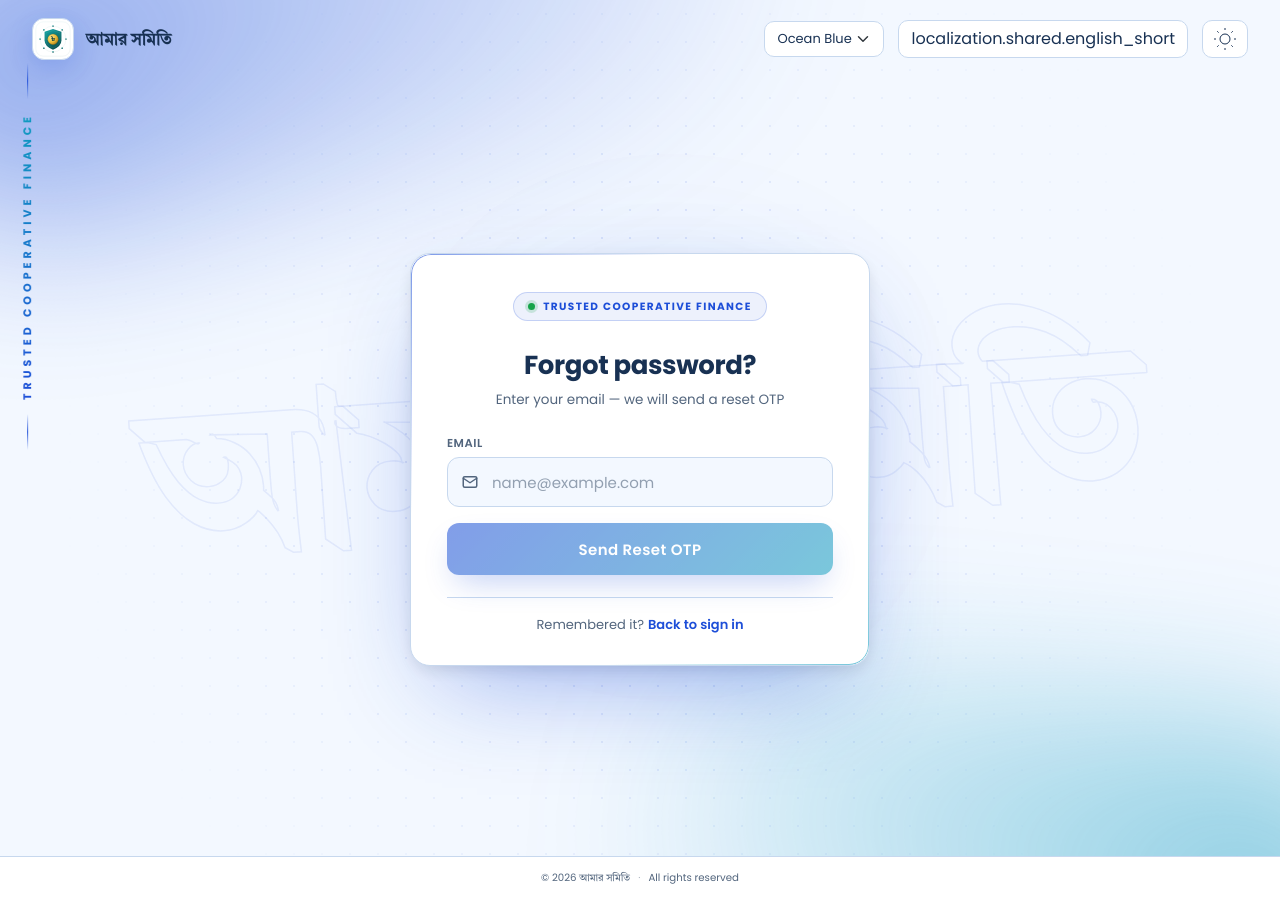
starts recovery without putting an AbortSignal in the authorization header
Type "support@example.test" into the field labelled "Email" at (640, 482), box top-left (447, 457), bottom-right (833, 507)
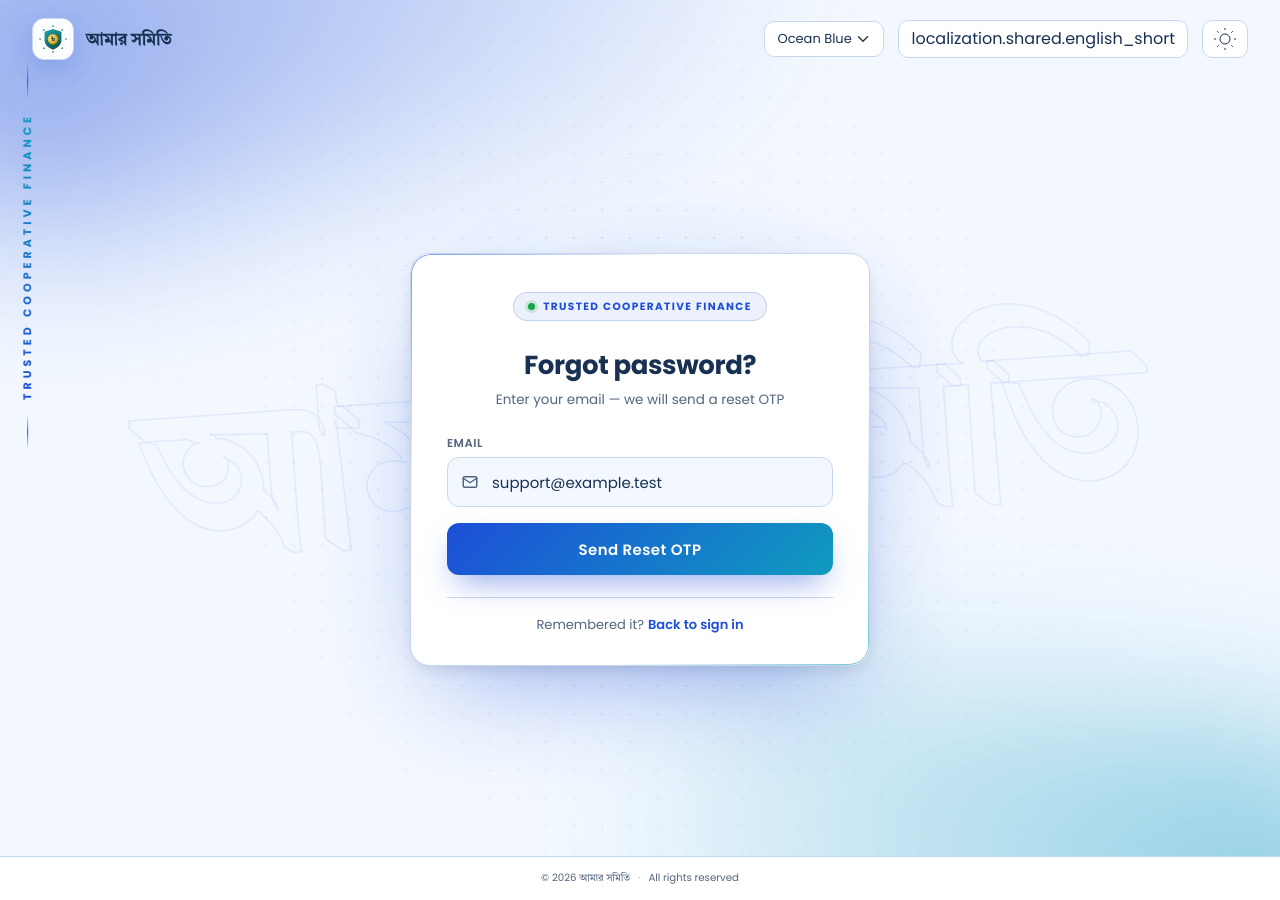
Submit the form, box top-left (447, 435), bottom-right (833, 575)
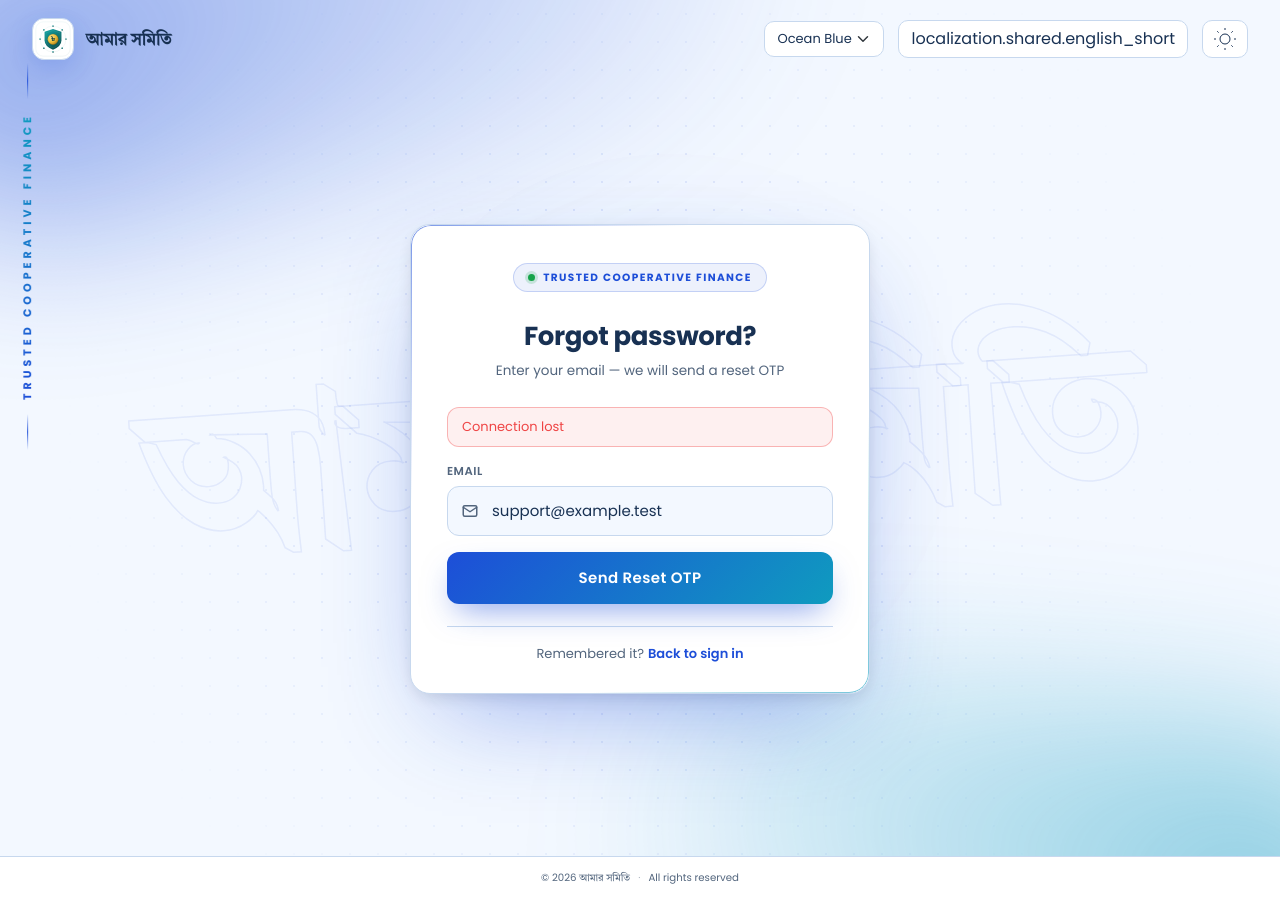
Expected: the button "Send Reset OTP" is enabled, top-left (447, 552), bottom-right (833, 604)
Expected: the text "Connection lost" is shown, top-left (447, 407), bottom-right (833, 447)
